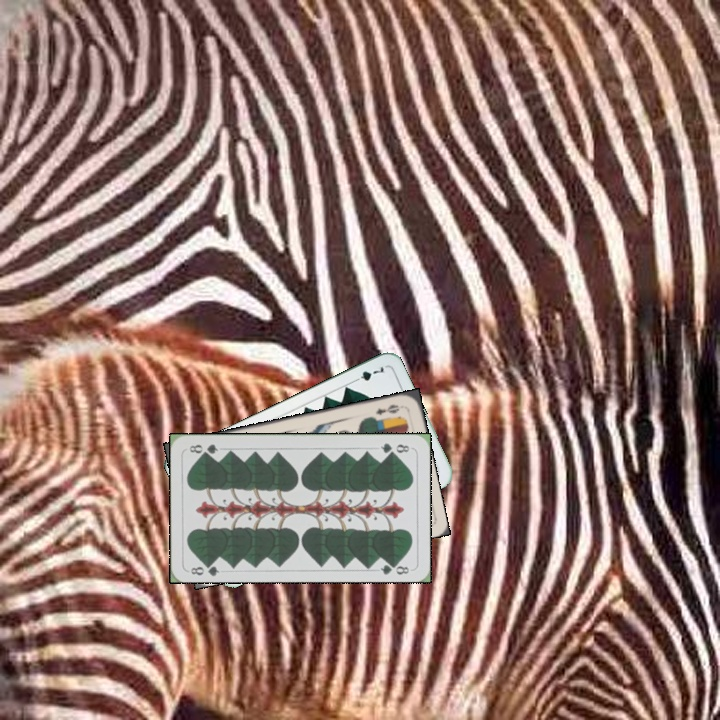EO: (371, 400, 402, 417)
G7: (349, 361, 386, 385)
G8: (187, 558, 222, 578), (377, 439, 412, 457)
